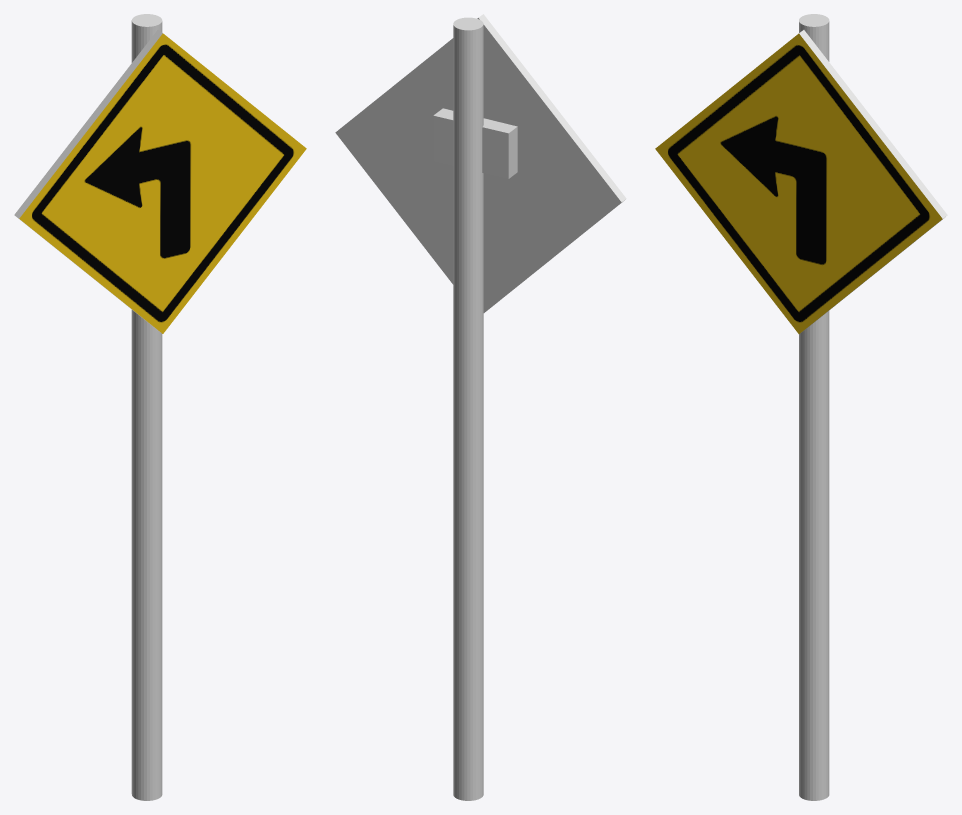
File: PeringBelokKiri.fbx
The picture shows the model from 3 angles, left to right: view 1: azimuth 30°, elevation 25°; view 2: azimuth 150°, elevation 25°; view 3: azimuth 330°, elevation 25°; orthographic projection.
Visible parts, largest first — view 1: Cube.002, Cylinder.002; view 2: Cube.002, Cylinder.002, Cube.001; view 3: Cube.002, Cylinder.002.
Boxes of the visible parts, x1,y1,x2,y2 form: Cube.002: (14,30,306,333); Cylinder.002: (131,14,162,800); Cube.002: (335,14,626,312); Cylinder.002: (453,17,483,800); Cube.001: (433,108,517,178); Cube.002: (655,30,947,333); Cylinder.002: (799,14,829,800).
Bounding box in the file's own units: 283 × 727 × 39.46.
Materials: 2 (1 with a texture image).
